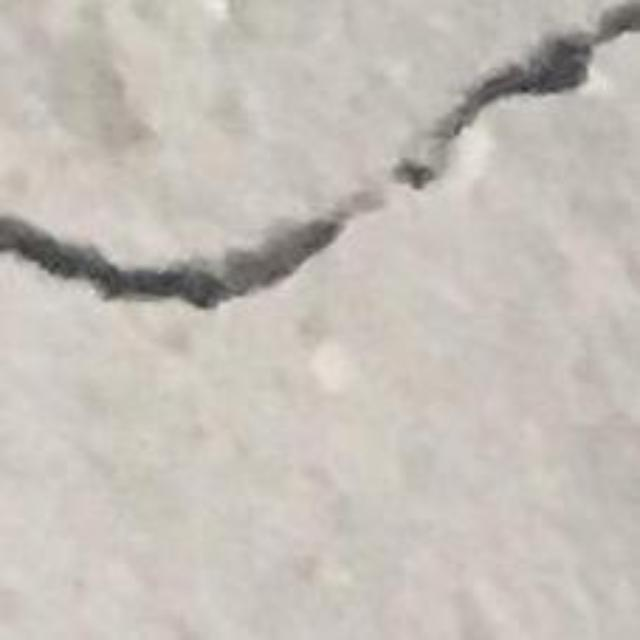crack: (0, 3, 639, 310)
